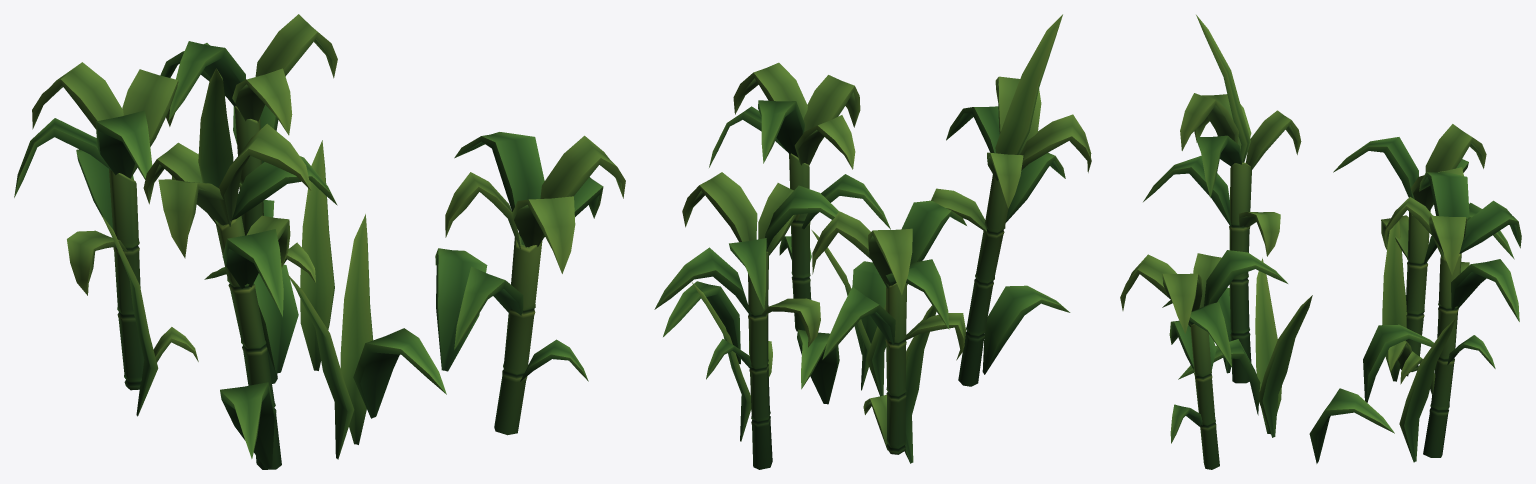
Rendered from SM_Plant_SugarCane_Lv2.fbx.
3 views of the same model, side by side, from view 1: azimuth 30°, elevation 25°; view 2: azimuth 150°, elevation 25°; view 3: azimuth 270°, elevation 25° (orthographic). The views are drawn at different scales.
Visible parts, largest first — view 1: SM_Plant_SugarCane_Lv2; view 2: SM_Plant_SugarCane_Lv2; view 3: SM_Plant_SugarCane_Lv2.
Part boxes in pixels (x1,y1,x2,y2): SM_Plant_SugarCane_Lv2: [14, 14, 625, 469]; SM_Plant_SugarCane_Lv2: [654, 14, 1091, 469]; SM_Plant_SugarCane_Lv2: [1120, 15, 1521, 469].
Bounding box in the file's own units: 60.17 × 62.31 × 62.05.
